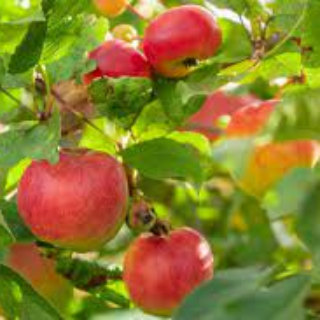tao: (17, 144, 132, 251), (124, 227, 217, 316), (140, 5, 227, 81)
